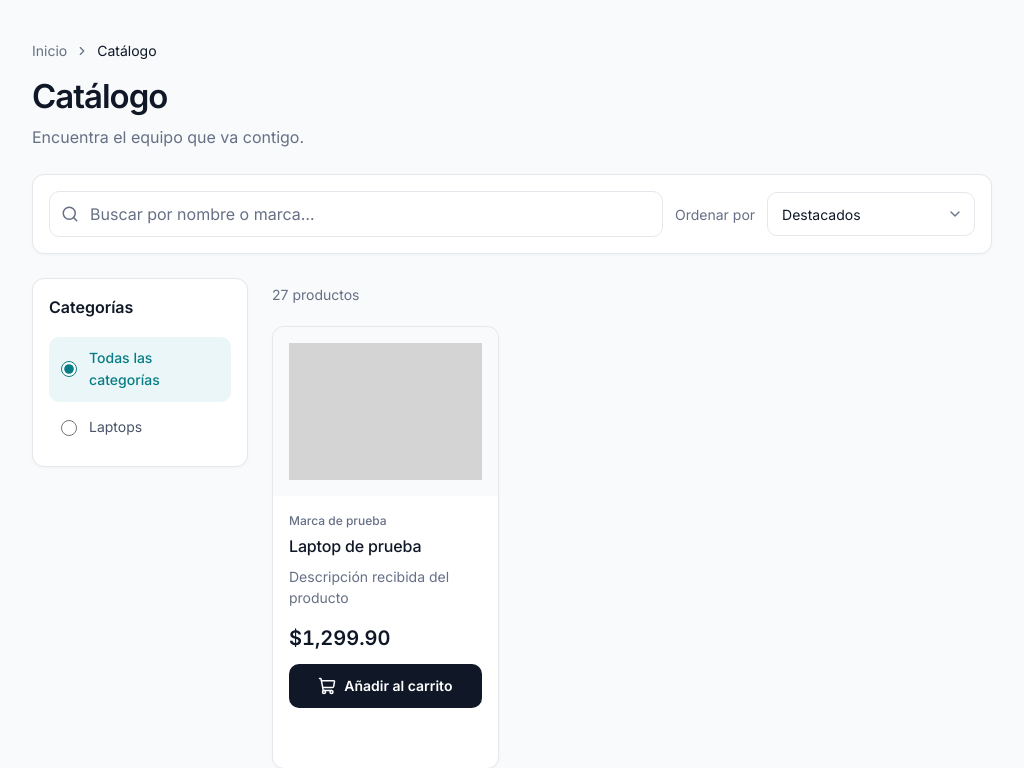
Test: Product cards and catalog › shows a cart error and permits retrying without reporting success
Click the button "Añadir al carrito": (385, 686) [289,664,482,708]
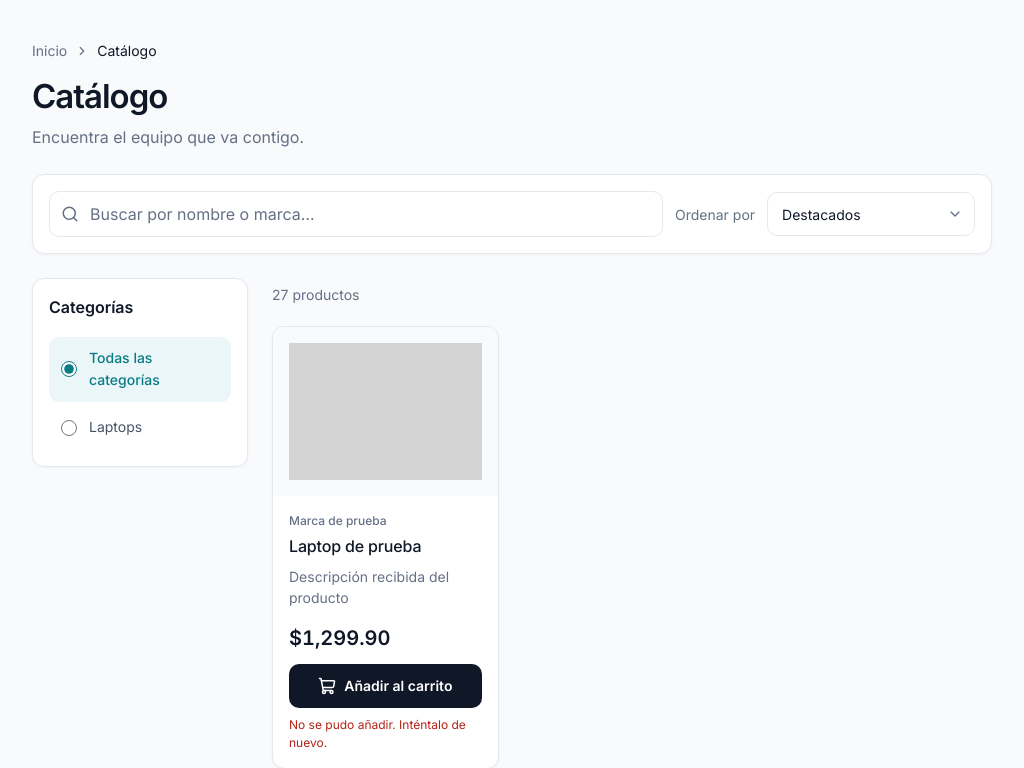
Check: the link "Ver carrito" is not shown
Check: the message "No se pudo añadir. Inténtalo de nuevo." is shown, box [289,716,482,752]
Click the button "Añadir al carrito": (385, 686) [289,664,482,708]
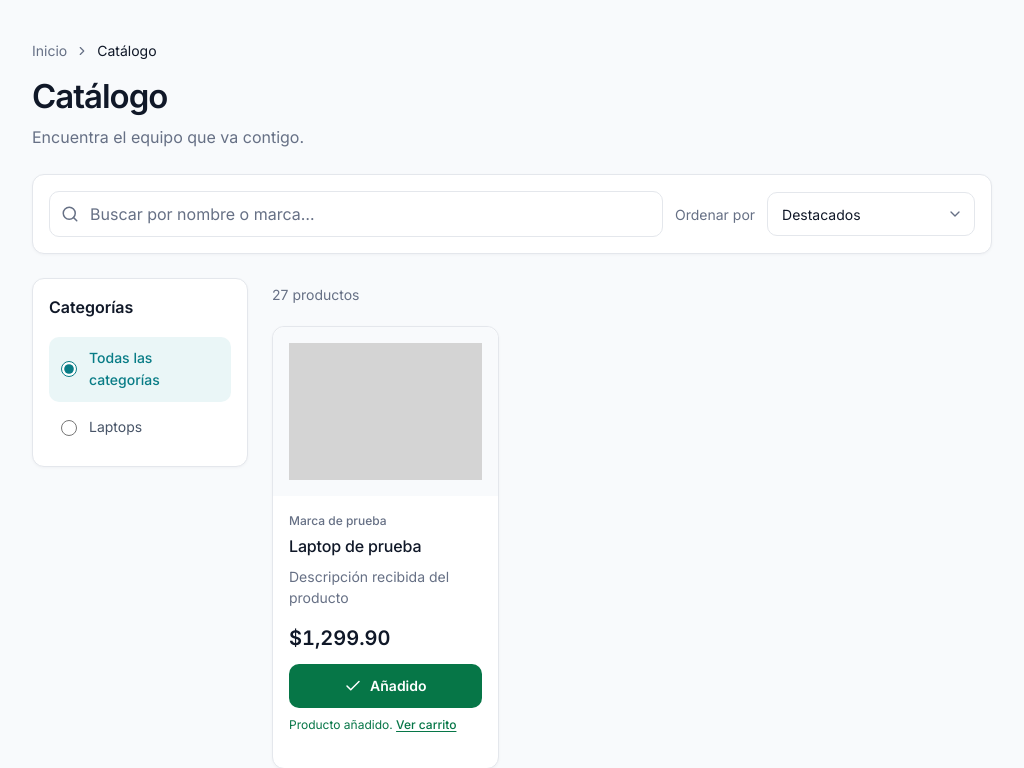
Check: the link "Ver carrito" is shown, box [396,717,456,732]
